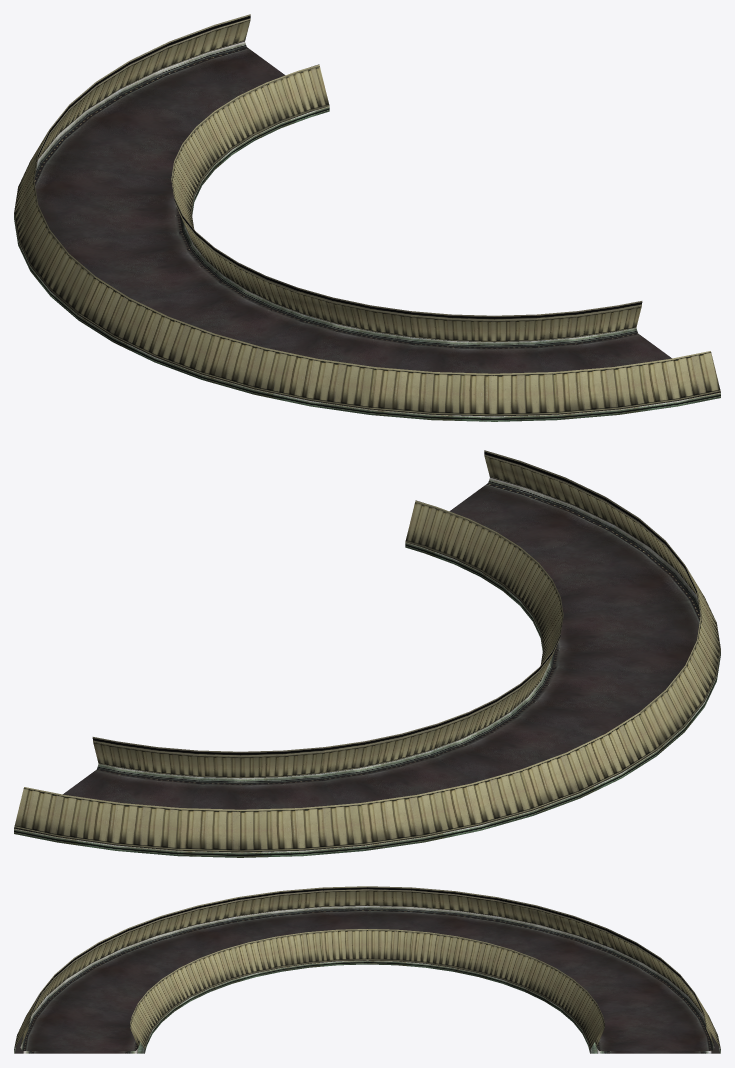
The model's file is Walled_Turn_90.fbx.
The picture shows the model from 3 angles, top to bottom: view 1: azimuth 30°, elevation 25°; view 2: azimuth 150°, elevation 25°; view 3: azimuth 270°, elevation 25°; orthographic projection. The views are drawn at different scales.
Parts seen in each view (by area): view 1: Turn_wall_90; view 2: Turn_wall_90; view 3: Turn_wall_90.
Boxes of the visible parts, <box> form: Turn_wall_90: <box>14,14,720,421</box>; Turn_wall_90: <box>14,450,720,857</box>; Turn_wall_90: <box>14,886,720,1053</box>.
Size of what is drawn, in the model's own units: 48.37 by 4.57 by 99.96.
